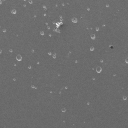corrosion: (53, 21, 65, 32), (94, 65, 104, 75), (70, 16, 80, 25), (15, 53, 24, 62), (89, 32, 96, 41), (47, 52, 56, 59), (10, 8, 17, 16), (108, 43, 115, 51), (89, 45, 96, 52), (38, 29, 45, 36), (122, 94, 128, 101), (42, 12, 47, 18), (27, 65, 33, 70)
